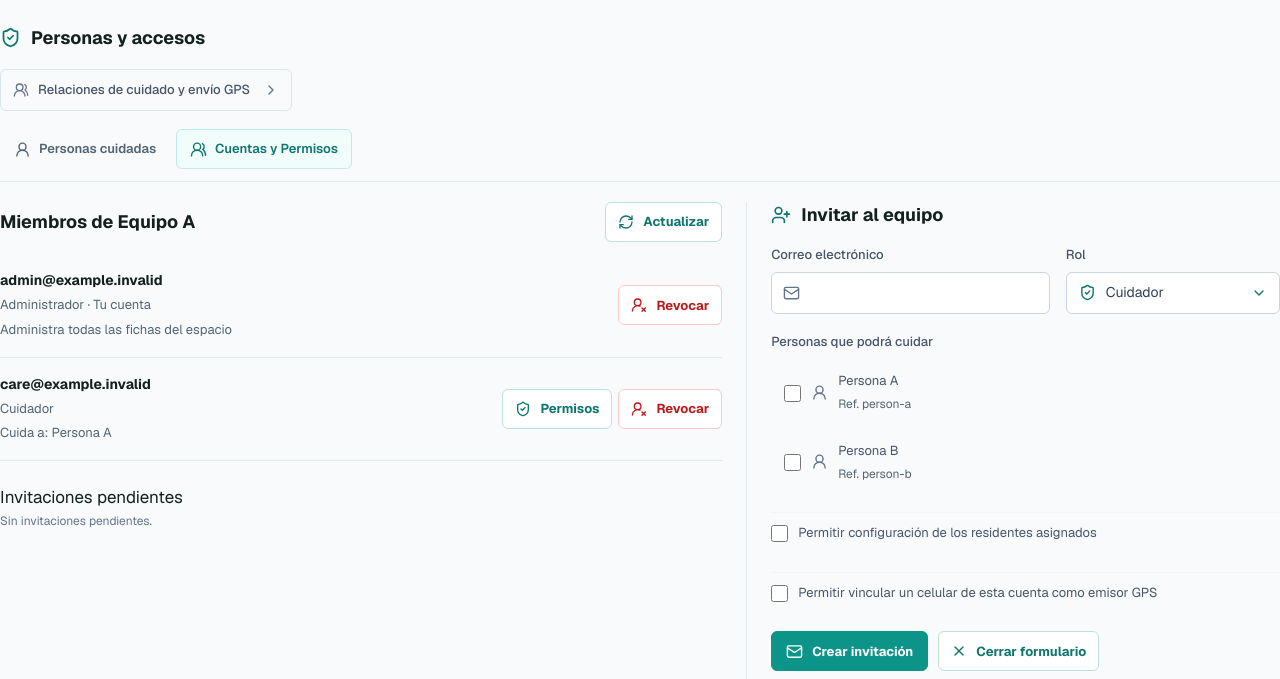
Test: revocation uses the restricted command only after confirmation
Check: the text "care@example.invalid" is shown, box [0, 375, 151, 393]
What coordinates should you click on to do the following:
click the button "Revocar" in the row of "care@example.invalid"
I would click on:
 (670, 409)
Its box is [618, 389, 722, 429].
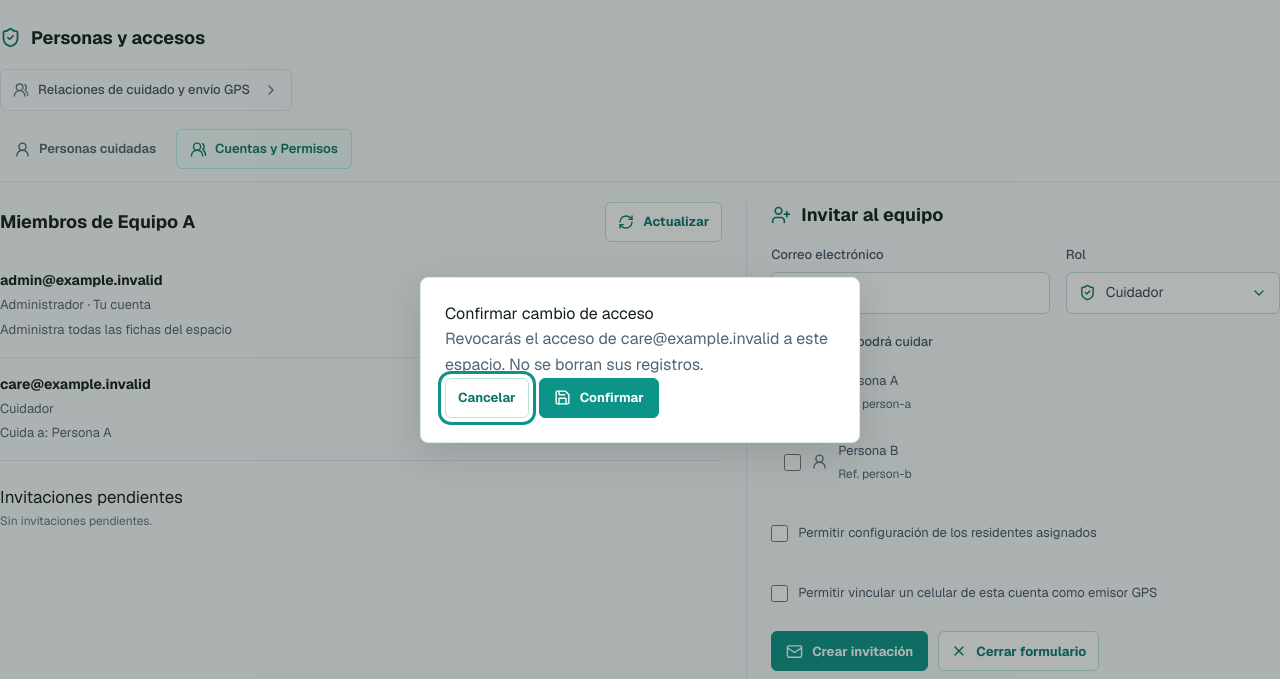
Check: the dialog is shown, box [420, 277, 860, 443]
What coordinates should you click on to do the following:
click the button "Confirmar"
I would click on:
 (599, 398)
Its box is [539, 378, 659, 418].
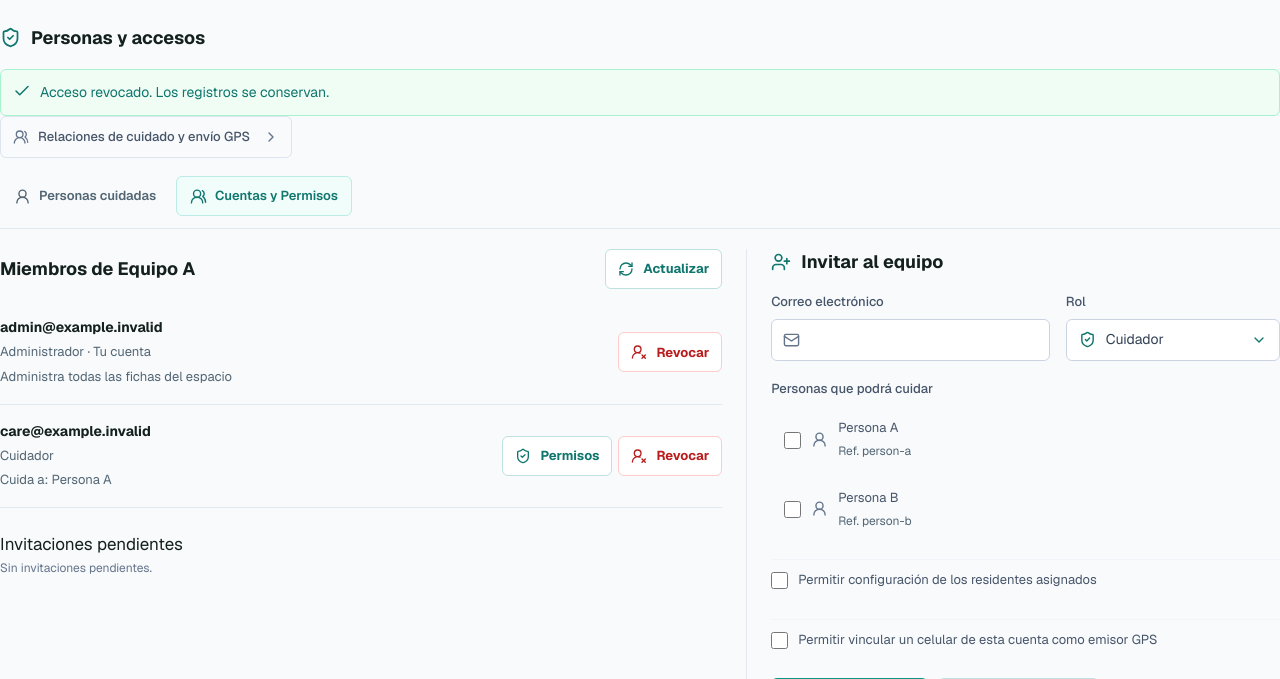
Check: the text "Acceso revocado. Los registros se conservan." is shown, box [0, 69, 1279, 116]
